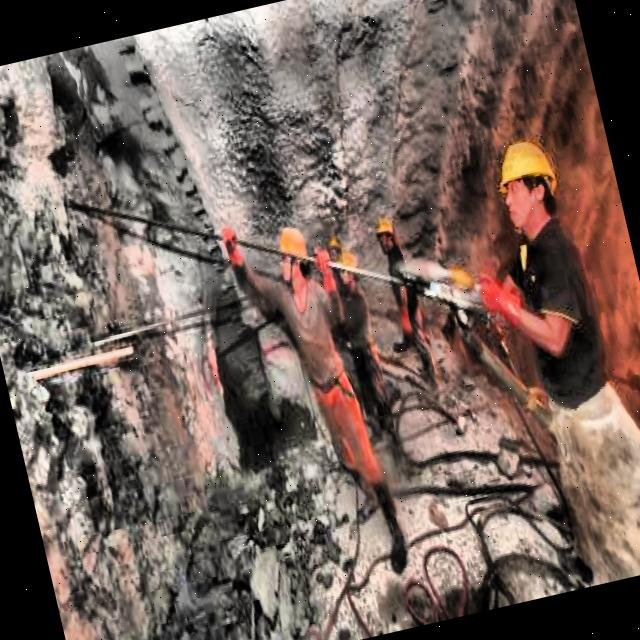helmet: (482, 127, 574, 247), (268, 221, 316, 289), (368, 205, 402, 258), (333, 244, 364, 286)
